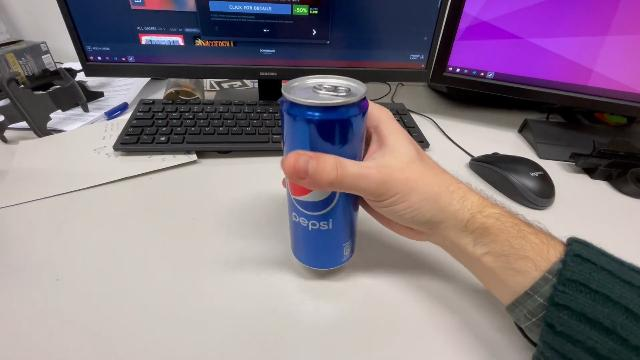Pepsi: (278, 71, 370, 275)
